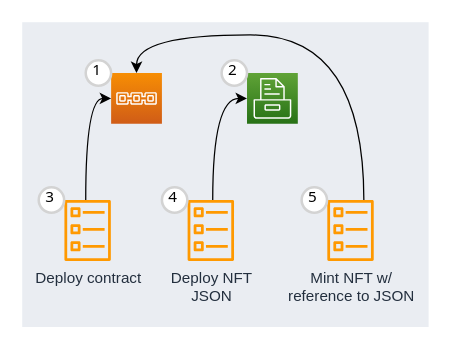
Image size: 450x348. Some labels were removed from this diagram. Here are the shapes that lost their labels. From the top down, the centre of each, then its label:
pixel 136 98: Hardhat local chain
pixel 272 98: IPFS local node
